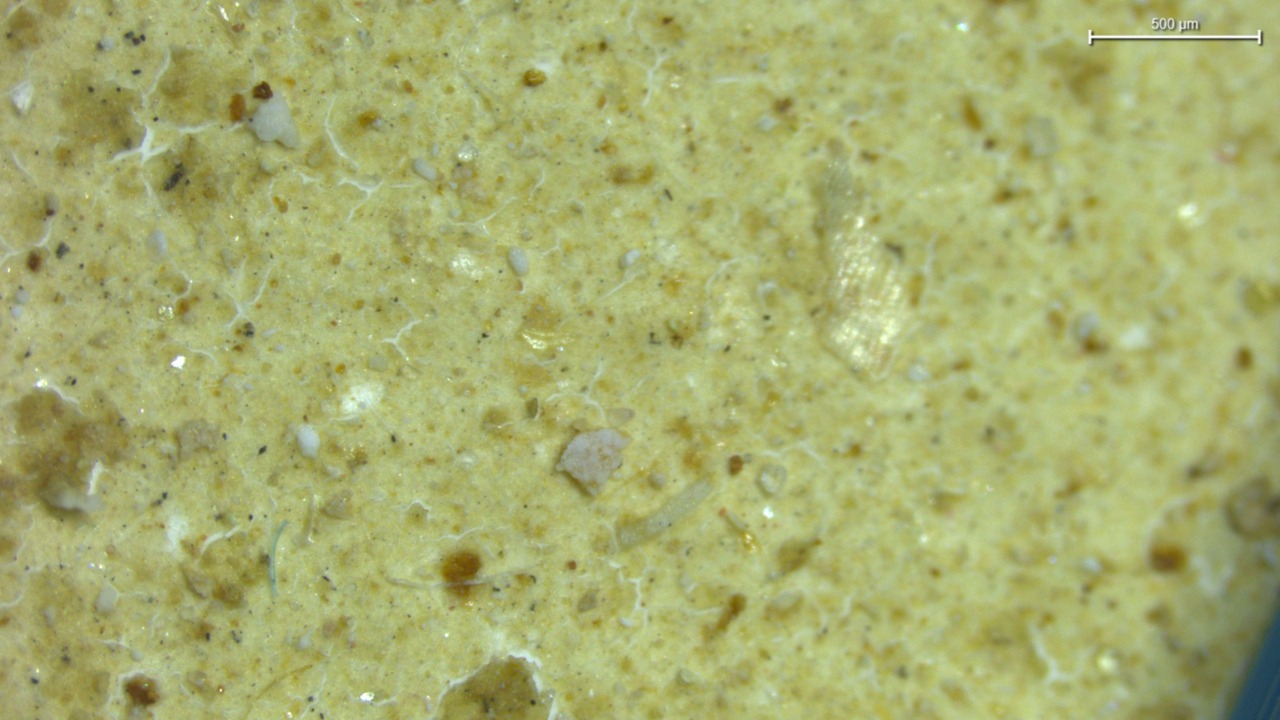microplastic_fragment: (556, 429, 629, 495), (249, 94, 298, 147), (296, 424, 320, 458)
